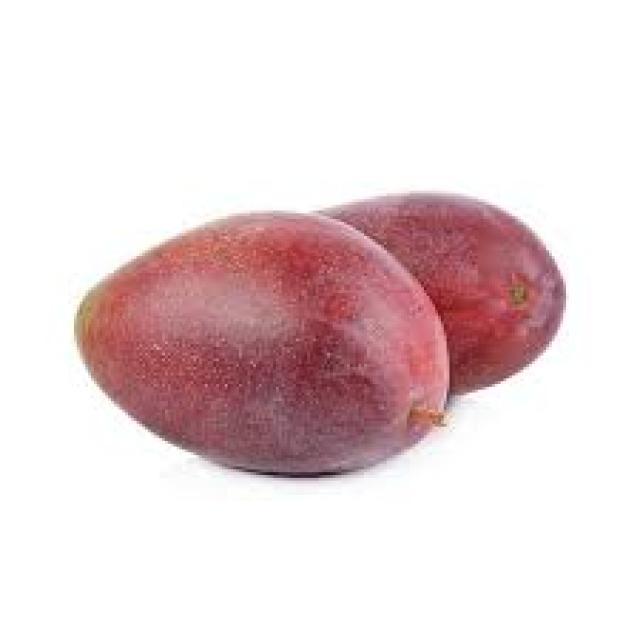Mango: (84, 208, 445, 476), (350, 173, 565, 400)
